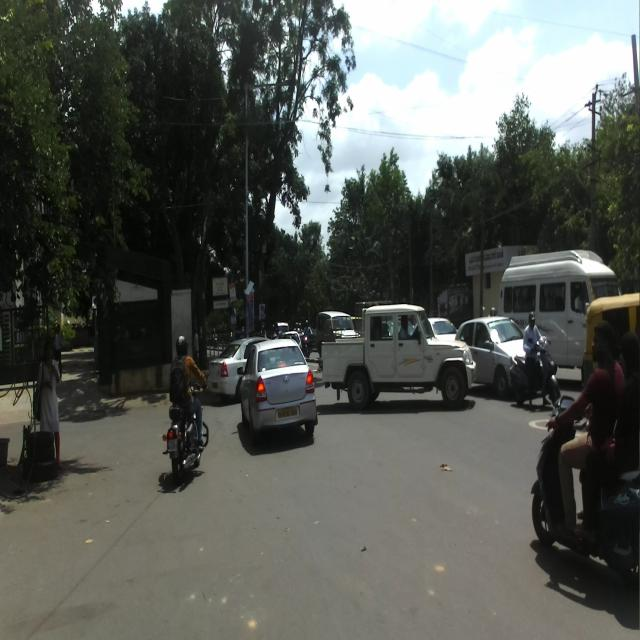car: (235, 338, 318, 450)
mini-bus: (498, 250, 623, 378)
motorcycle: (162, 377, 209, 491)
scooter: (530, 394, 639, 591), (506, 334, 562, 406)
truck: (317, 301, 476, 411)
